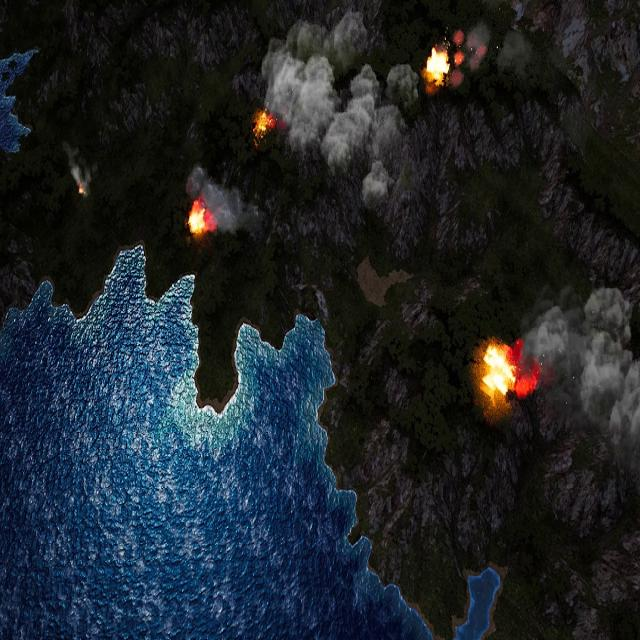fire: (481, 342, 516, 403), (188, 201, 216, 237), (424, 48, 449, 87), (252, 109, 277, 140)
smoke: (272, 10, 424, 211), (518, 284, 640, 450), (186, 165, 254, 239), (452, 19, 489, 95), (66, 143, 93, 203)
